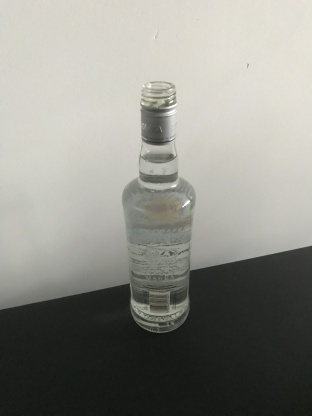nakretka: (138, 79, 178, 146)
